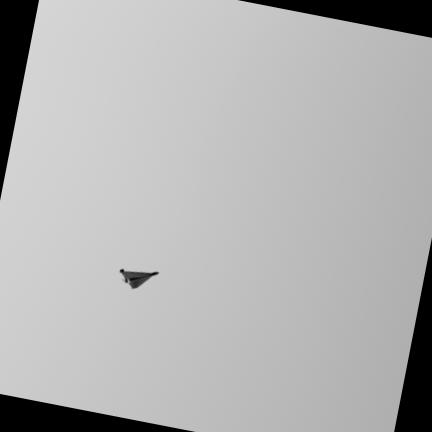Shahed: (119, 269, 158, 288)
